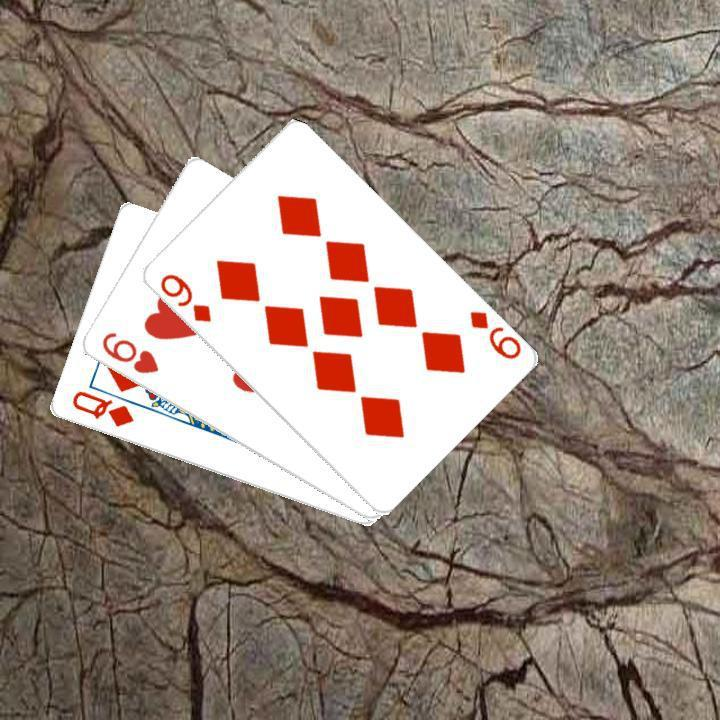6: (96, 327, 160, 376)
9: (154, 269, 213, 325), (464, 306, 523, 362)
Q: (67, 386, 136, 430)
